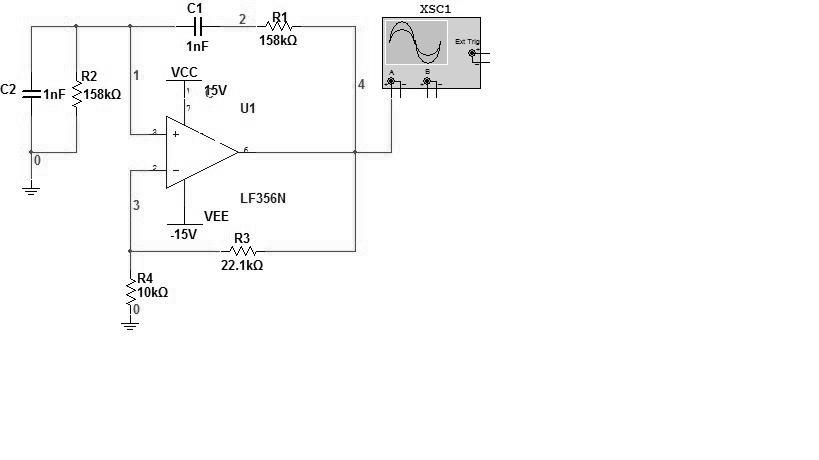amplifier: (153, 112, 245, 193)
cap1: (18, 81, 44, 103), (187, 16, 210, 40)
gnd: (117, 318, 144, 333), (19, 185, 45, 200)
res2: (222, 242, 263, 260), (124, 272, 138, 314), (70, 75, 85, 113), (260, 20, 298, 33)
